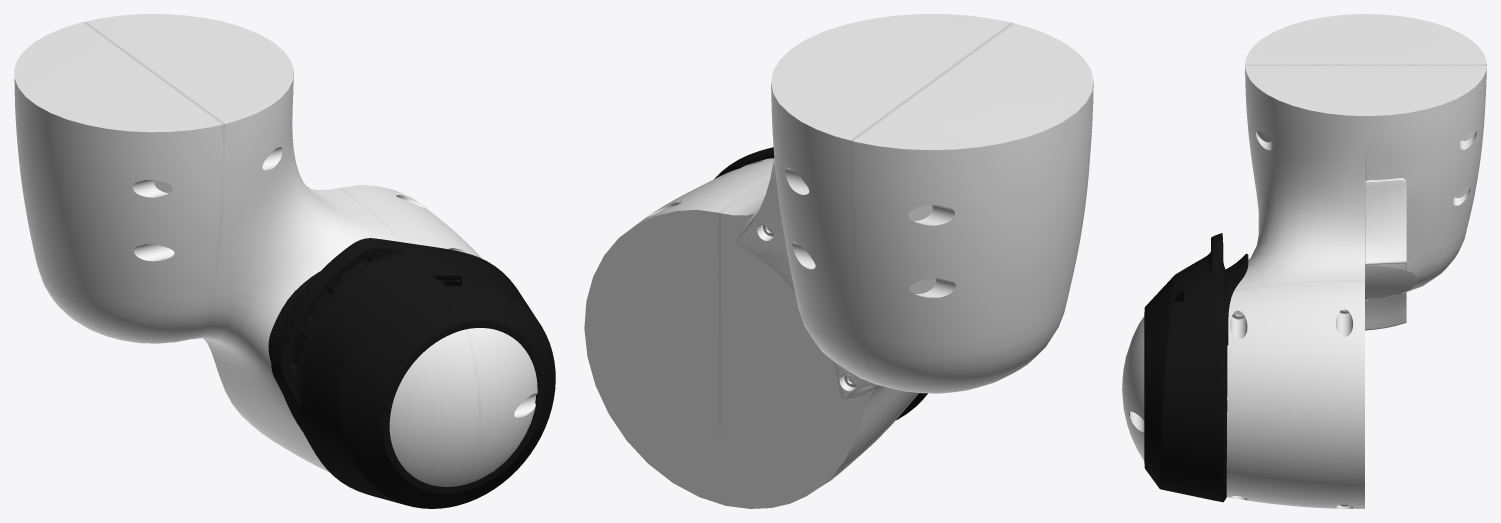
3 renders of one model, left to right at view 1: azimuth 30°, elevation 25°; view 2: azimuth 150°, elevation 25°; view 3: azimuth 270°, elevation 25°, orthographic. The views are drawn at different scales.
Visible parts, largest first — view 1: link4; view 2: link4; view 3: link4.
Part boxes in pixels (x1,y1,x2,y2): link4: (14, 14, 555, 508); link4: (584, 14, 1093, 508); link4: (1122, 14, 1486, 508).
Size of the model in its own units: 0.1925 by 0.1789 by 0.1661.
Materials: 1 (1 with a texture image).
